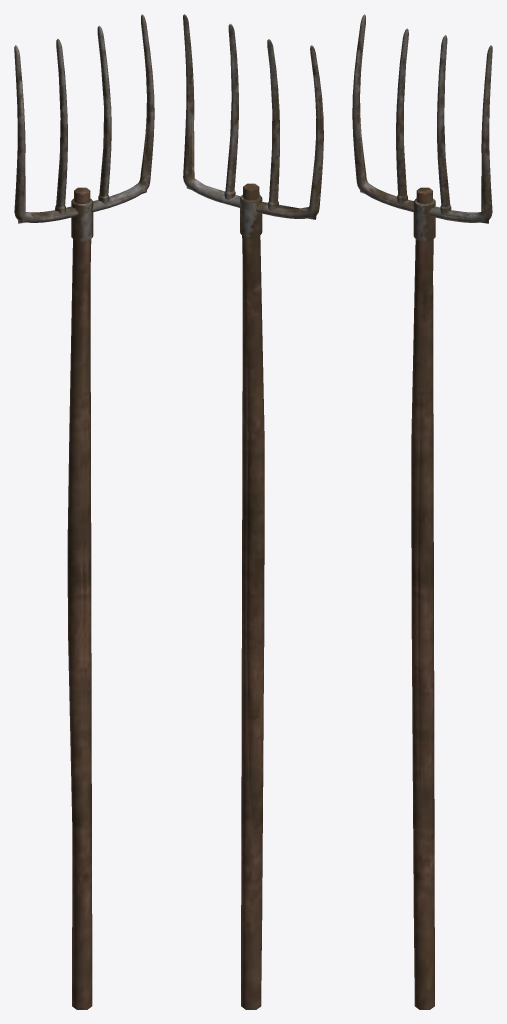
File: PitchFork.glb
The picture shows the model from 3 angles, left to right: view 1: azimuth 30°, elevation 25°; view 2: azimuth 150°, elevation 25°; view 3: azimuth 330°, elevation 25°; orthographic projection.
Parts seen in each view (by area): view 1: PitchFork; view 2: PitchFork; view 3: PitchFork.
Part boxes in pixels (left/top/right/bottom): PitchFork: left=14, top=14, right=154, bottom=1009; PitchFork: left=183, top=14, right=323, bottom=1009; PitchFork: left=352, top=14, right=492, bottom=1009.
Bounding box in the file's own units: 0.3121 × 2.14 × 0.0491.
Materials: 1 (1 with a texture image).
